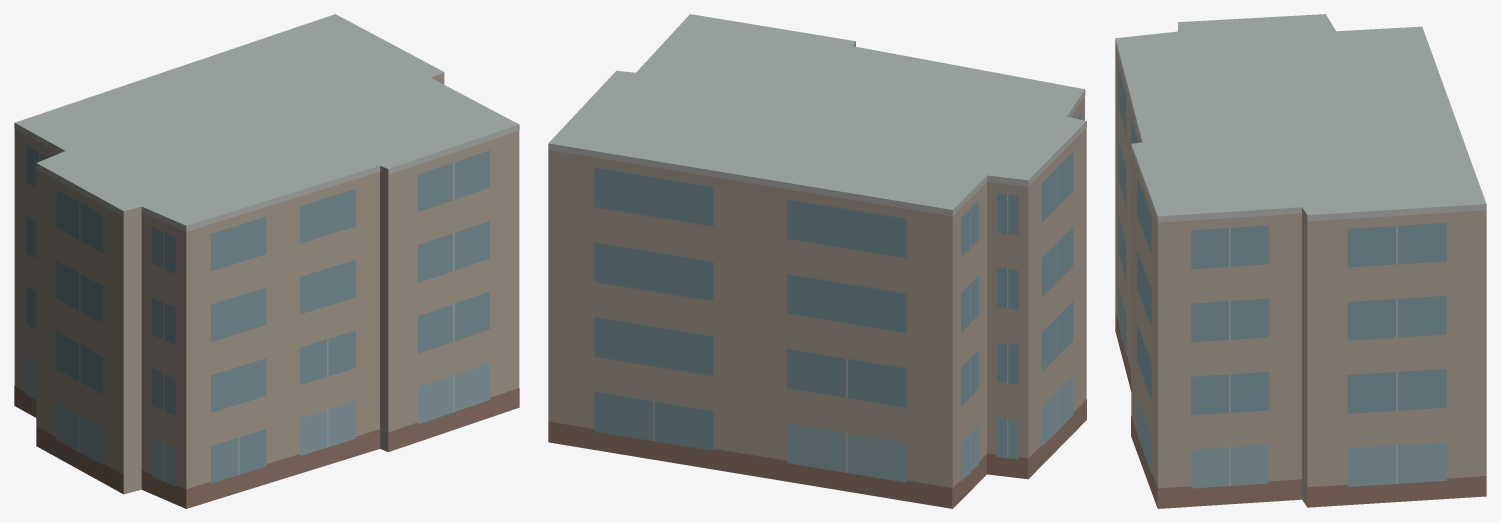
File: survey-upis-32629460.glb
3 renders of one model, left to right at view 1: azimuth 30°, elevation 25°; view 2: azimuth 150°, elevation 25°; view 3: azimuth 270°, elevation 25°, orthographic. The views are drawn at different scales.
Visible parts, largest first — view 1: survey-upis-32629460.tmp; view 2: survey-upis-32629460.tmp; view 3: survey-upis-32629460.tmp.
Part boxes in pixels (bbox=[...]): survey-upis-32629460.tmp: bbox=[14, 14, 519, 508]; survey-upis-32629460.tmp: bbox=[548, 14, 1086, 508]; survey-upis-32629460.tmp: bbox=[1115, 14, 1486, 508].
Bounding box in the file's own units: 16.94 × 11.4 × 13.13.
